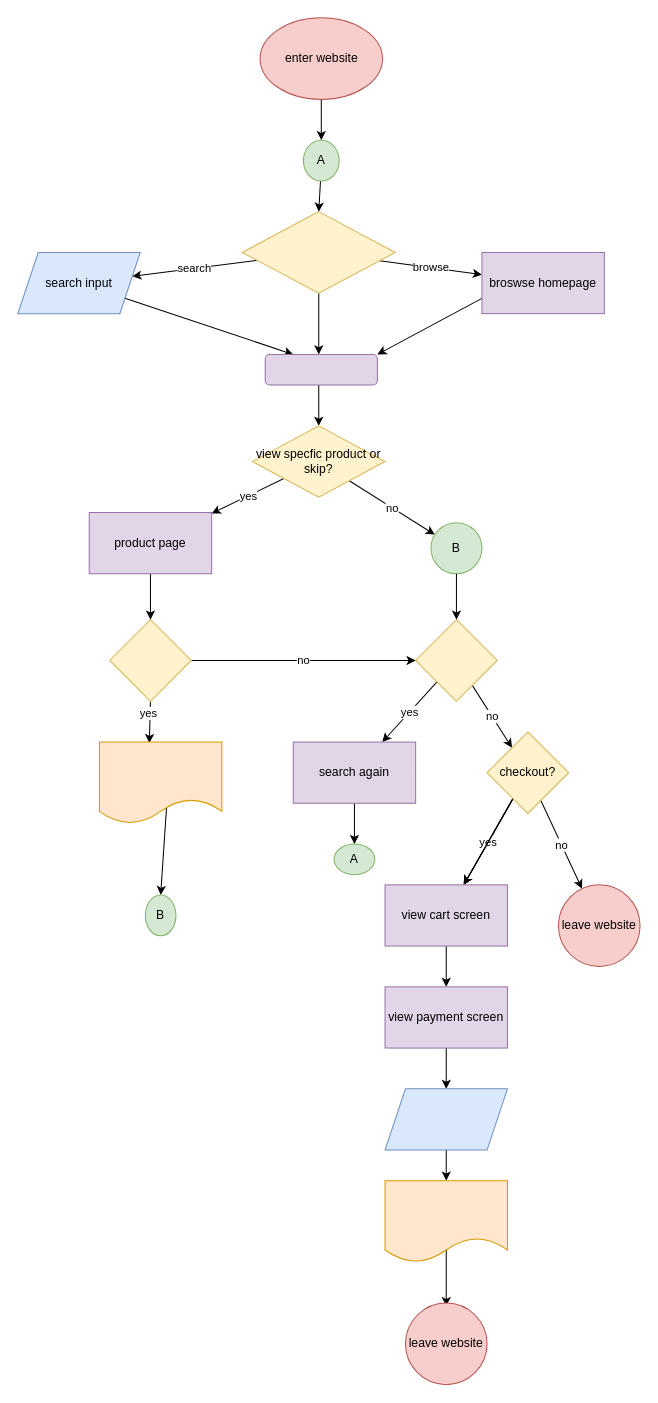
Image size: 658x1403. Some labels were removed from this diagram. The shapes that lost their labels are listed below. From the top down, each one's centre as x and y in pixels, then its label:
At [318,252]: "search for product or browse homepage".
At [320,369]: "view products".
At [150,660]: "add to cart?".
At [456,660]: "continue shopping?".
At [160,782]: "add to cart confirmation".
At [445,1119]: "enter payment info".
At [445,1221]: "order confirmation + email".
